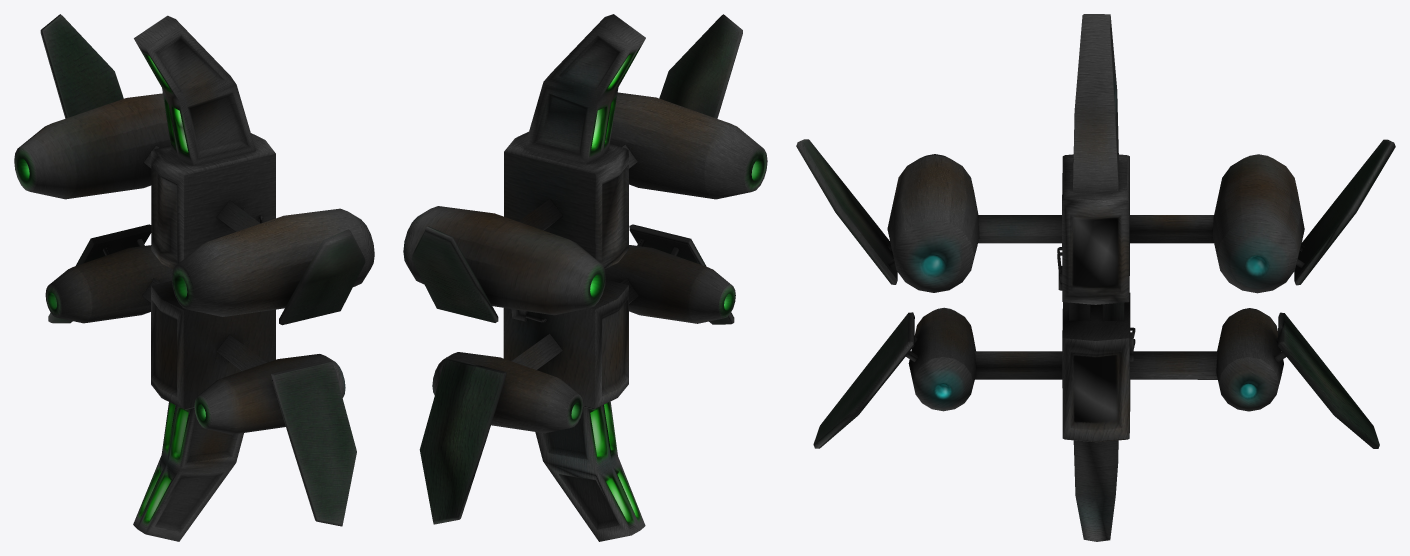
File: SpaceShipUV.obj
3 views of the same model, side by side, from view 1: azimuth 30°, elevation 25°; view 2: azimuth 150°, elevation 25°; view 3: azimuth 270°, elevation 25° (orthographic).
Parts seen in each view (by area): view 1: objdefault; view 2: objdefault; view 3: objdefault.
Part boxes in pixels (left/top/right/bottom): objdefault: left=14, top=14, right=374, bottom=541; objdefault: left=403, top=14, right=767, bottom=541; objdefault: left=796, top=14, right=1395, bottom=541.
Bounding box in the file's own units: 6.4 × 16.99 × 17.53.
Materials: 1 (1 with a texture image).
